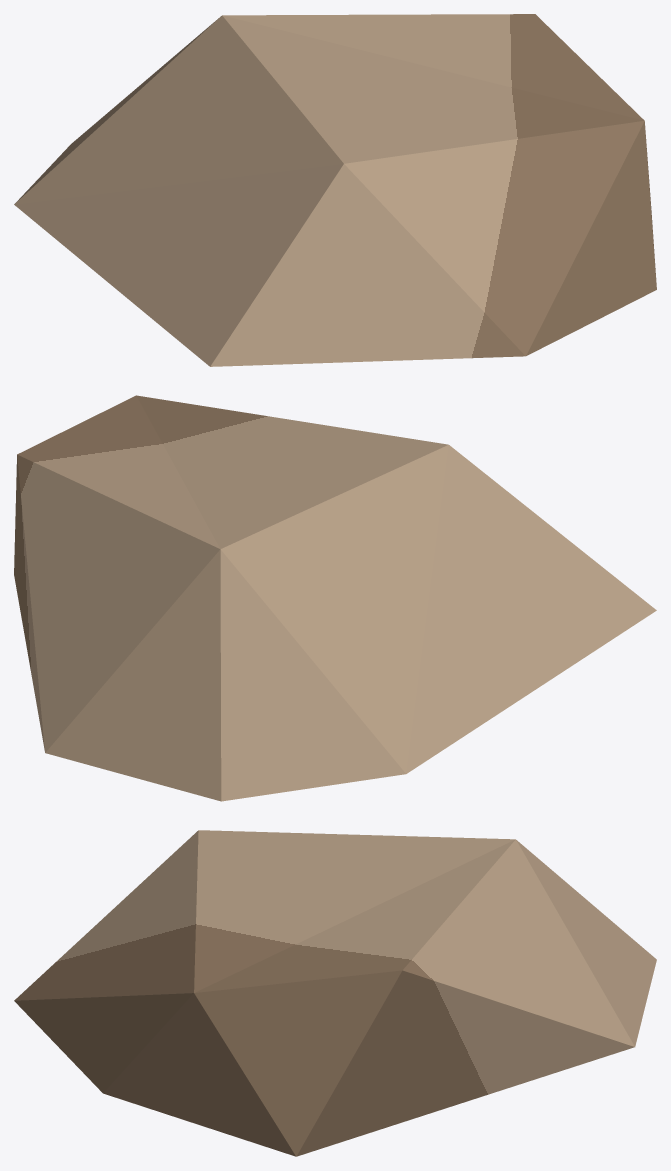
File: stone_04.fbx
3 views of the same model, one above another, from view 1: azimuth 30°, elevation 25°; view 2: azimuth 150°, elevation 25°; view 3: azimuth 270°, elevation 25° (orthographic). The views are drawn at different scales.
Visible parts, largest first — view 1: stone_04; view 2: stone_04; view 3: stone_04.
Boxes of the visible parts, x1,y1,x2,y2 form: stone_04: [14, 14, 656, 366]; stone_04: [14, 395, 656, 801]; stone_04: [14, 830, 656, 1156].
Size of the model in its own units: 5.35 by 1.81 by 6.05.
Materials: 1 (1 with a texture image).
